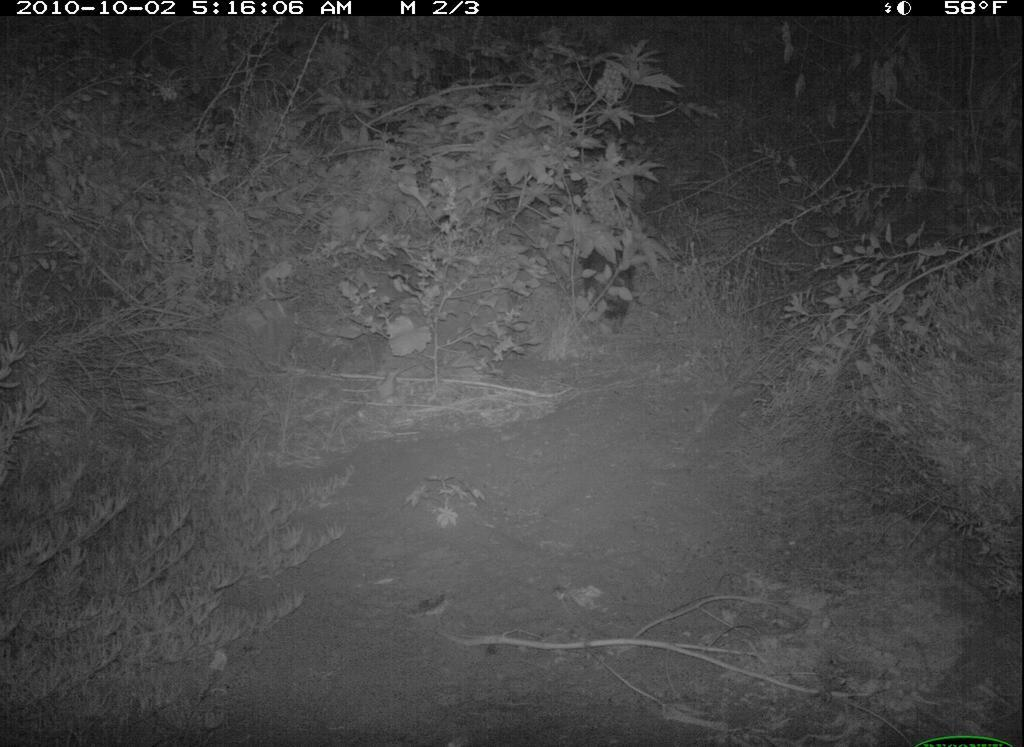raccoon: (560, 223, 657, 339)
